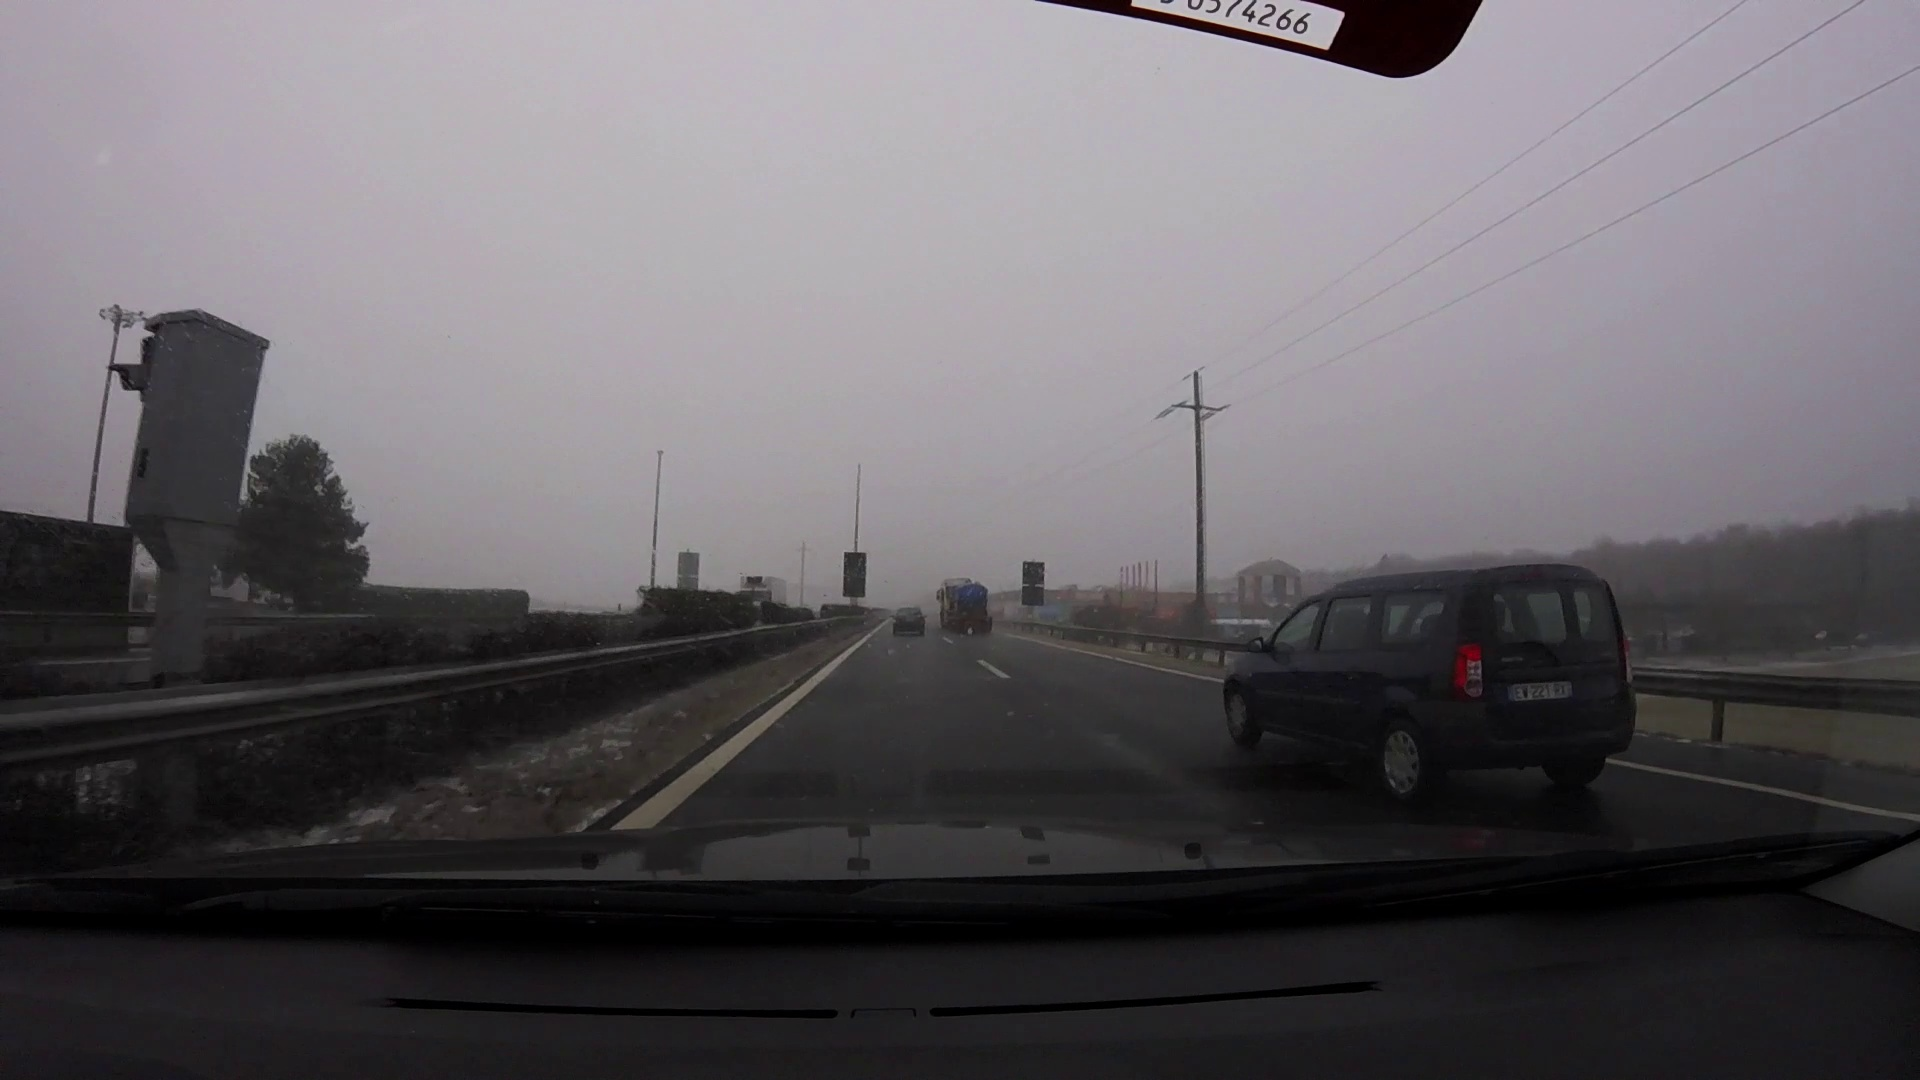radar: (107, 310, 272, 593)
